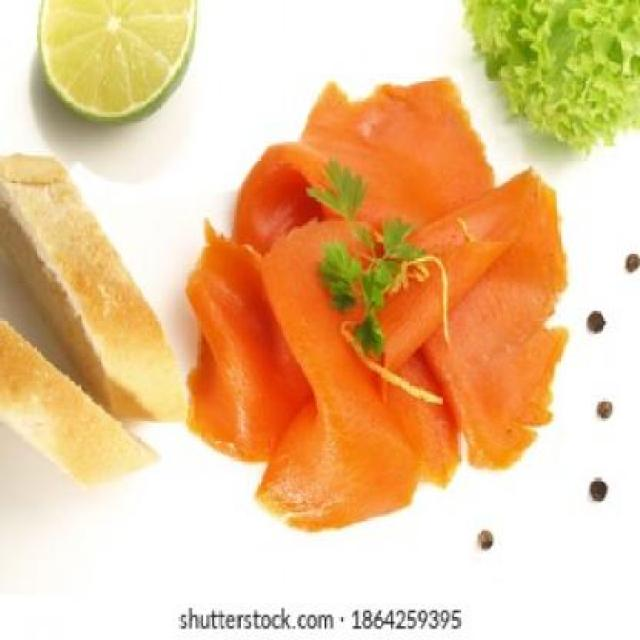salmon: (183, 75, 569, 528)
